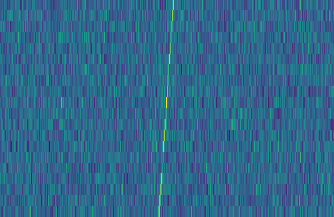signal: (154, 0, 177, 217)
